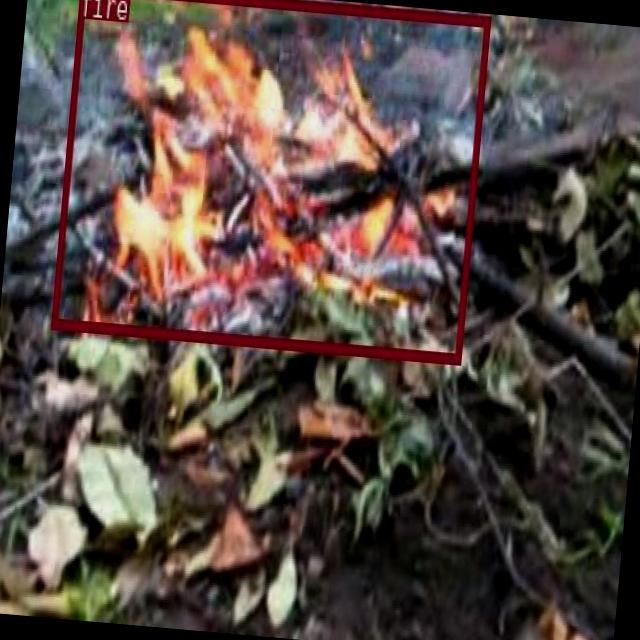fire: (50, 0, 489, 361)
